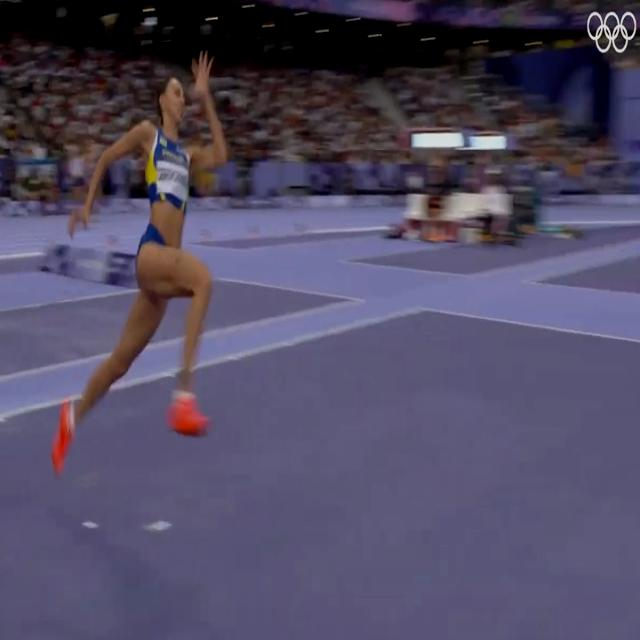run: (50, 56, 226, 477)
